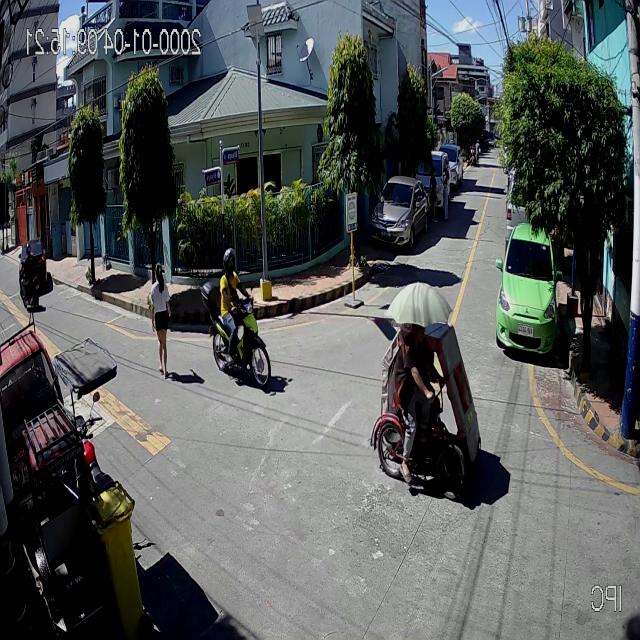standing: (439, 166, 452, 221), (427, 166, 438, 223), (474, 139, 481, 165)
walking: (150, 260, 172, 380)
